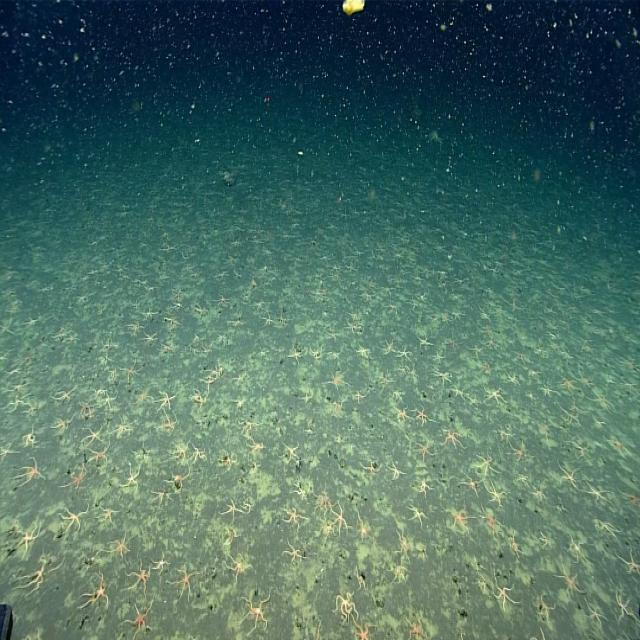brittle-stars: (15, 561, 55, 593), (491, 570, 517, 616), (242, 594, 270, 634), (582, 476, 614, 511), (56, 503, 88, 537), (443, 506, 474, 538), (477, 503, 505, 538), (172, 566, 196, 606), (614, 584, 638, 624), (86, 575, 111, 613), (127, 602, 152, 640), (13, 521, 40, 553), (335, 590, 360, 624), (128, 563, 152, 598), (224, 552, 252, 582), (314, 482, 333, 525), (558, 564, 582, 598), (220, 496, 249, 524), (60, 463, 90, 490), (21, 458, 46, 490), (481, 381, 508, 409), (355, 508, 374, 547), (557, 461, 580, 493), (442, 423, 466, 453), (617, 548, 640, 579), (282, 538, 306, 566), (168, 464, 190, 494), (96, 501, 118, 531), (394, 528, 413, 562), (586, 598, 606, 630), (122, 358, 145, 385), (159, 409, 179, 440), (484, 480, 506, 508), (149, 484, 171, 511), (474, 449, 496, 476), (150, 550, 172, 576), (408, 613, 429, 640), (112, 533, 132, 561), (408, 501, 428, 529), (218, 448, 238, 476), (123, 462, 141, 493), (325, 369, 348, 393), (51, 382, 76, 404), (284, 505, 304, 532), (330, 506, 348, 536), (0, 438, 18, 468), (560, 405, 582, 429), (236, 416, 260, 438), (188, 441, 209, 466), (280, 441, 302, 464), (88, 443, 111, 465), (52, 412, 70, 440), (536, 526, 554, 554), (286, 341, 304, 368), (432, 367, 454, 389), (112, 416, 134, 438), (509, 440, 528, 465), (416, 438, 434, 464), (20, 424, 40, 447), (353, 622, 378, 640), (84, 424, 105, 445), (393, 404, 413, 426), (157, 389, 175, 413), (79, 396, 96, 421), (395, 341, 413, 364), (559, 375, 579, 395), (354, 340, 372, 362), (350, 386, 368, 407), (389, 461, 404, 485), (541, 378, 556, 401), (380, 337, 396, 358), (414, 406, 429, 428), (141, 327, 159, 345), (260, 311, 276, 331), (215, 294, 232, 310), (108, 366, 120, 384), (173, 286, 183, 301)
